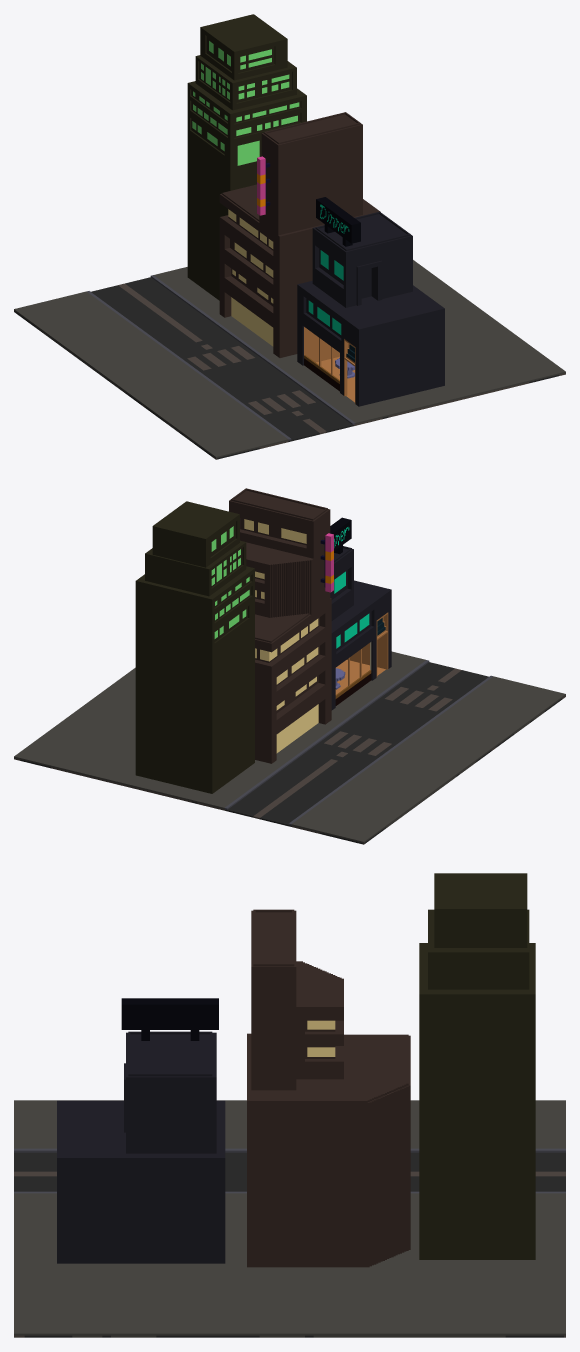
The model's file is Street6.obj.
3 renders of one model, top to bottom at view 1: azimuth 30°, elevation 25°; view 2: azimuth 150°, elevation 25°; view 3: azimuth 270°, elevation 25°, orthographic. The views are drawn at different scales.
Size of the model in its own units: 25.6 by 17.7 by 25.6.
Materials: 1 (1 with a texture image).
